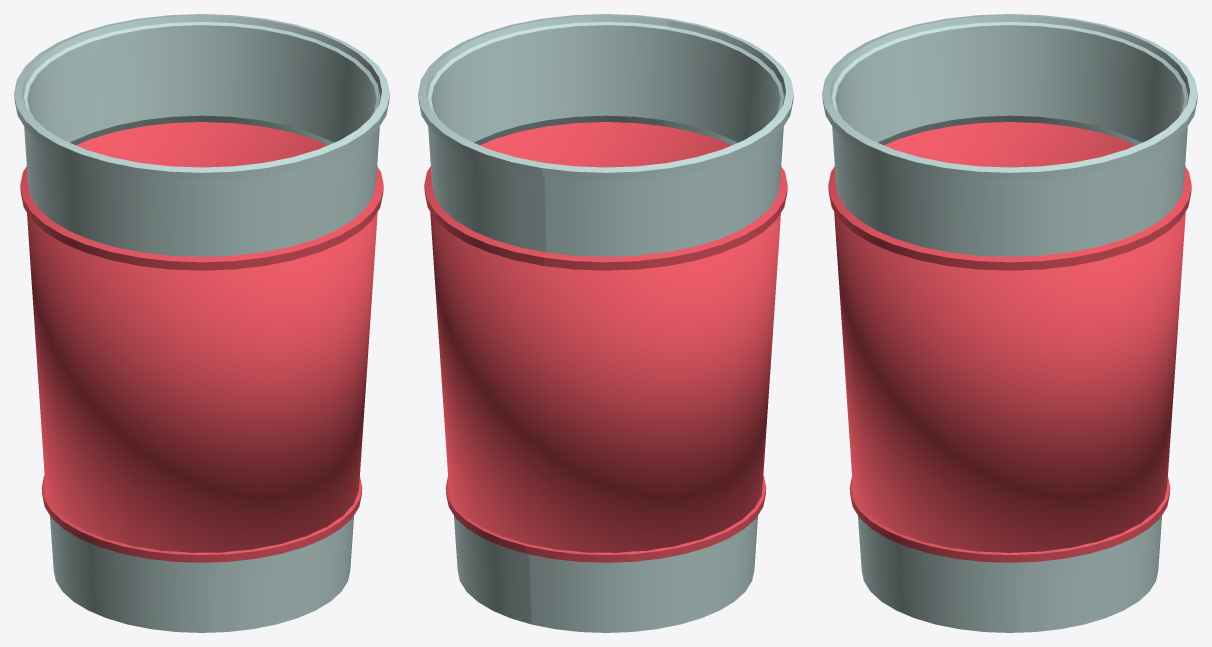
3 views of the same model, side by side, from view 1: azimuth 30°, elevation 25°; view 2: azimuth 150°, elevation 25°; view 3: azimuth 270°, elevation 25° (orthographic).
Visible parts, largest first — view 1: cup_for_pen; view 2: cup_for_pen; view 3: cup_for_pen.
Boxes of the visible parts, box(x1,y1,x2,y2) form: cup_for_pen: box(14, 14, 389, 632); cup_for_pen: box(418, 14, 793, 632); cup_for_pen: box(822, 14, 1197, 632).
Bounding box in the file's own units: 686 × 964 × 686.
